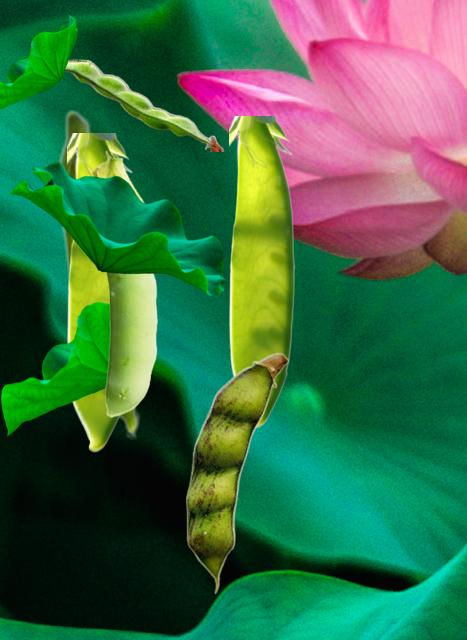pea: (56, 108, 140, 438), (186, 352, 288, 593), (67, 133, 132, 451), (229, 116, 294, 427), (91, 150, 156, 416), (65, 59, 223, 150)
